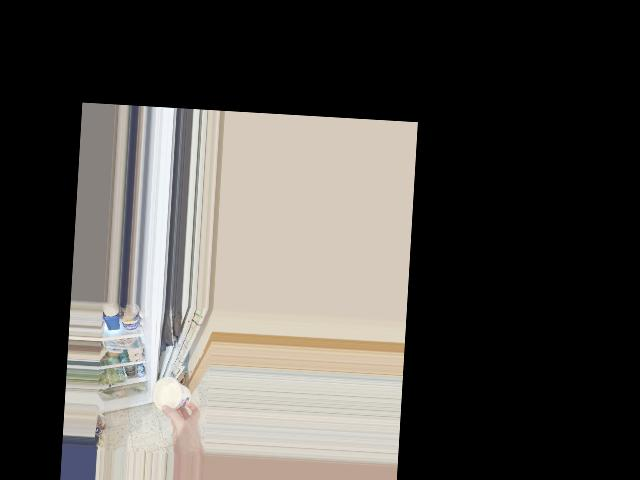cotage: (154, 376, 191, 410)
